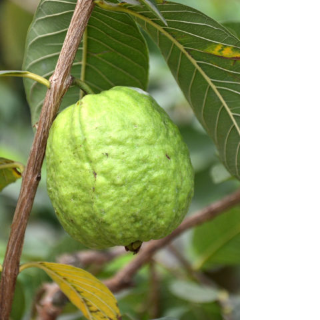oi: (42, 84, 197, 253)
